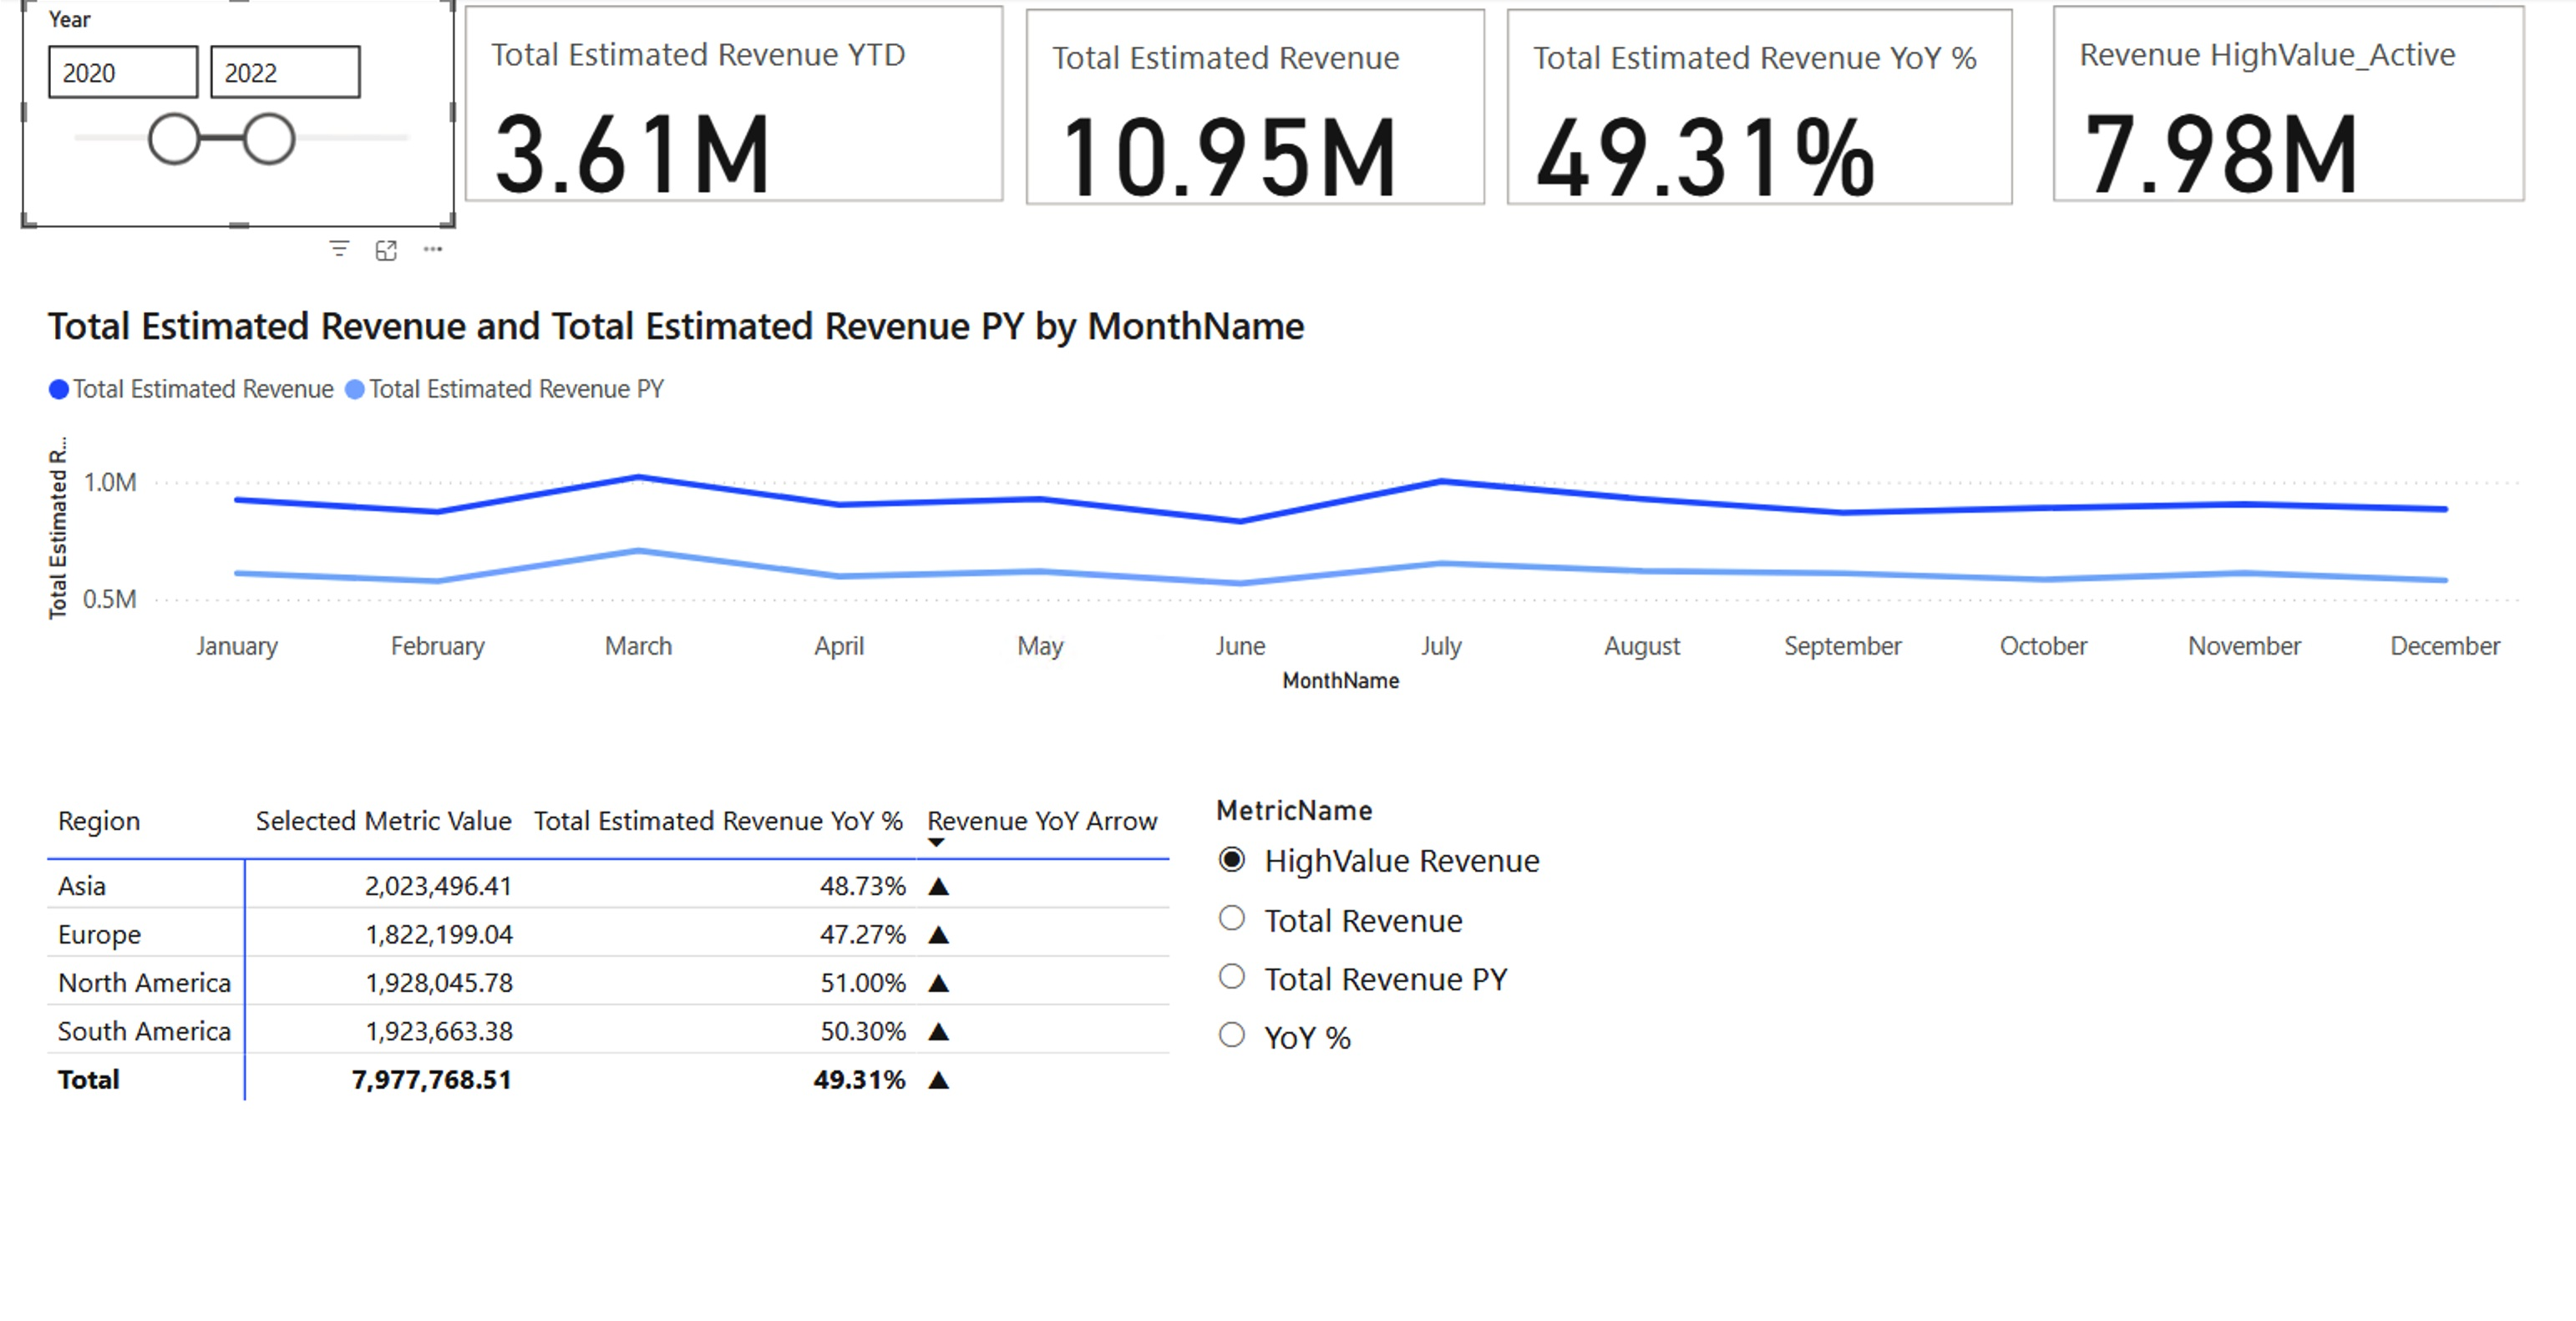

Layout of this report page (visuals, bound fields, positions):
{"tool":"powerbi","page":{"name":"Overview","canvas":[1280,720],"ordinal":2},"visuals":[{"type":"cardVisual","title":"Total Estimated Revenue","fields":{"Data":["FACT_Sales.Total Estimated Revenue"]},"box":[502.3,1.6,237.1,107.2],"z":0},{"type":"cardVisual","fields":{"Data":["FACT_Sales.Total Estimated Revenue YTD"]},"box":[225,0,277,107.5],"z":1000},{"type":"cardVisual","fields":{"Data":["FACT_Sales.Total Estimated Revenue YoY %"]},"box":[739.4,1.6,260.5,108],"z":2000},{"type":"cardVisual","fields":{"Data":["DIM_Customer.Revenue HighValue_Active"]},"box":[1008.5,0,243.2,107.5],"z":3000},{"type":"lineChart","fields":{"Category":["DIM_Date.MonthName"],"Y":["FACT_Sales.Total Estimated Revenue","FACT_Sales.Total Estimated Revenue PY"]},"box":[18.8,150.2,1233.1,198.7],"z":4000},{"type":"slicer","fields":{"Values":["DIM_Date.Year"]},"box":[11.8,0.9,213.2,113.9],"z":5000},{"type":"pivotTable","fields":{"Rows":["DIM_Region.Region"],"Values":["FACT_Sales.Selected Metric Value","FACT_Sales.Total Estimated Revenue YoY %","FACT_Sales.Revenue YoY Arrow"]},"box":[19.1,389.9,569.4,198.6],"z":6000},{"type":"slicer","fields":{"Values":["DIM_MetricSelector.MetricName"]},"box":[587.6,389,332.5,199.5],"z":7000}]}

Visuals, with their boxes on the page's 1280x720 design canvas (x1, y1, x2, y2). These are canvas units, not pixel positions in the 2576x1321 screenshot, which may show the page scaled, cropped or inside an application window:
"Total Estimated Revenue" cardVisual: x1=502, y1=2, x2=739, y2=109
cardVisual - FACT_Sales.Total Estimated Revenue YTD: x1=225, y1=0, x2=502, y2=108
cardVisual - FACT_Sales.Total Estimated Revenue YoY %: x1=739, y1=2, x2=1000, y2=110
cardVisual - DIM_Customer.Revenue HighValue_Active: x1=1008, y1=0, x2=1252, y2=108
lineChart - DIM_Date.MonthName x FACT_Sales.Total Estimated Revenue: x1=19, y1=150, x2=1252, y2=349
slicer - DIM_Date.Year: x1=12, y1=1, x2=225, y2=115
pivotTable - DIM_Region.Region x FACT_Sales.Selected Metric Value: x1=19, y1=390, x2=588, y2=588
slicer - DIM_MetricSelector.MetricName: x1=588, y1=389, x2=920, y2=588
